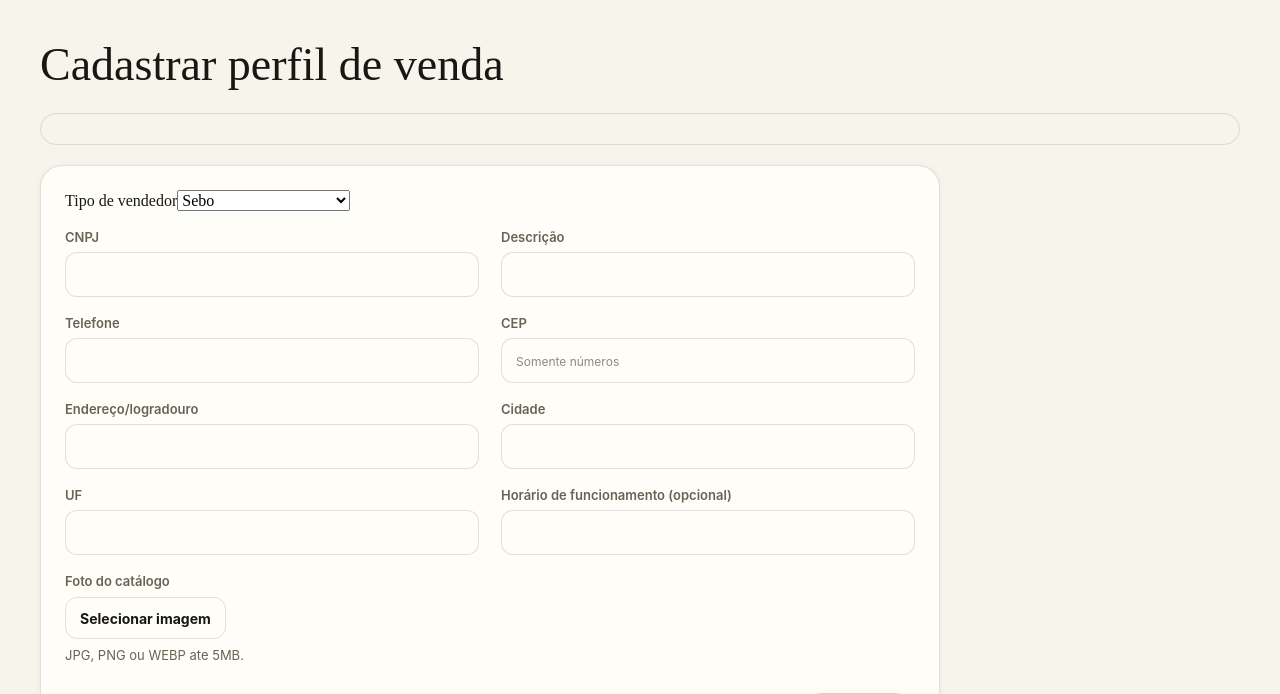
Test: mascara de CNPJ no cadastro do sebo › mascara o CNPJ corretamente enquanto o usuario digita todos os 14 digitos
This screenshot has width=1280, height=694.
Check: the heading "Cadastrar perfil de venda" is shown, box [40,39,504,90]
Type "11222333000181" into the field labelled "CNPJ" at (272, 274), box [65,252,479,297]
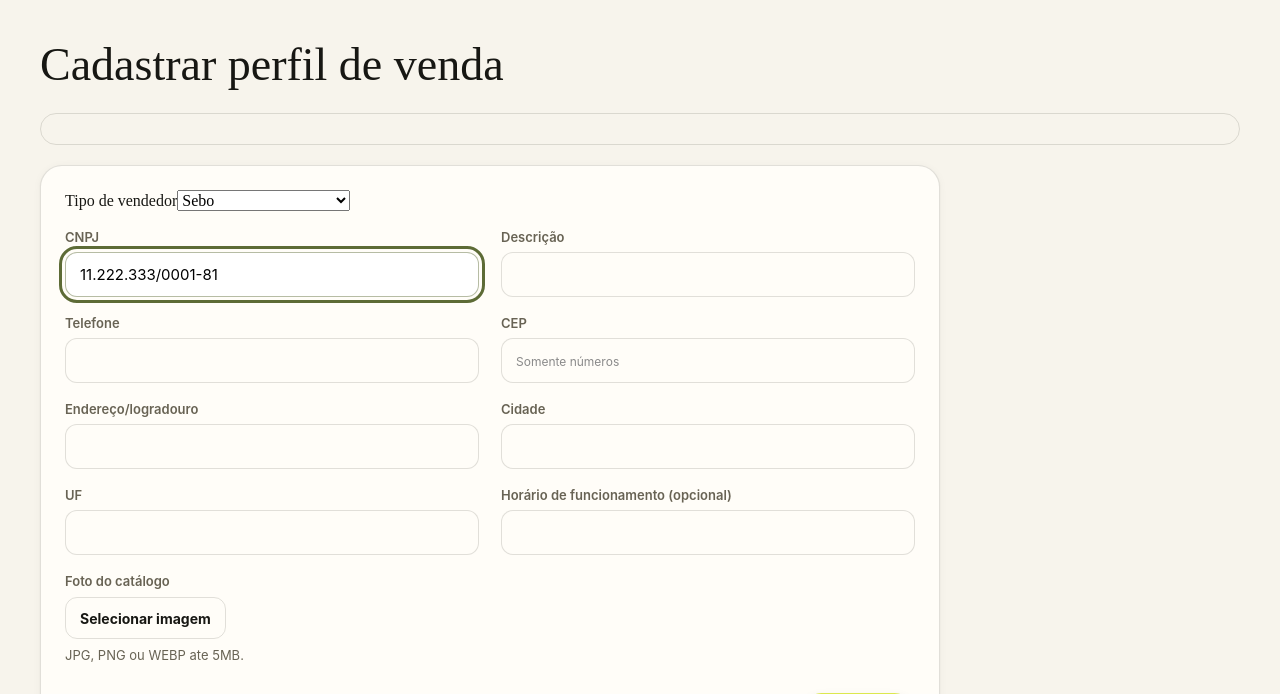
Check: the field labelled "CNPJ" holds "11.222.333/0001-81", box [65,252,479,297]
